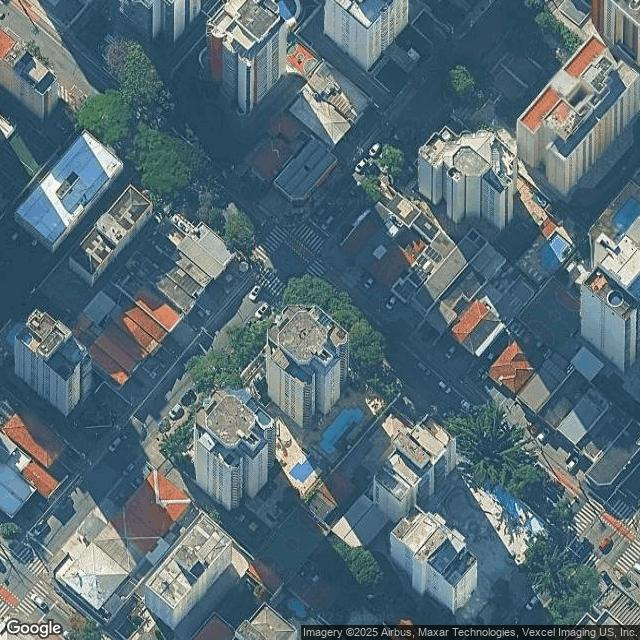pool: (338, 427, 363, 444), (553, 256, 573, 270), (619, 213, 638, 227), (293, 608, 311, 616)
